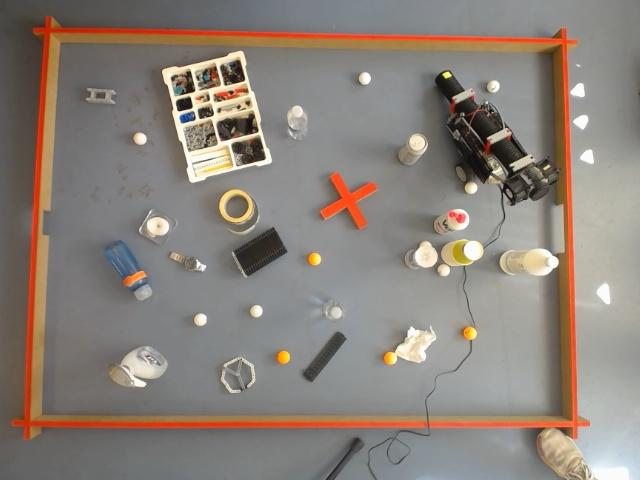orange: (462, 326, 478, 341), (276, 350, 292, 365), (382, 350, 398, 365), (306, 252, 322, 267)
robot: (435, 70, 559, 207)
robot-front: (435, 71, 463, 99)
white: (130, 131, 150, 147), (192, 312, 208, 329), (357, 71, 372, 88), (464, 180, 478, 194), (436, 264, 449, 277), (487, 80, 500, 93), (250, 305, 262, 317)
